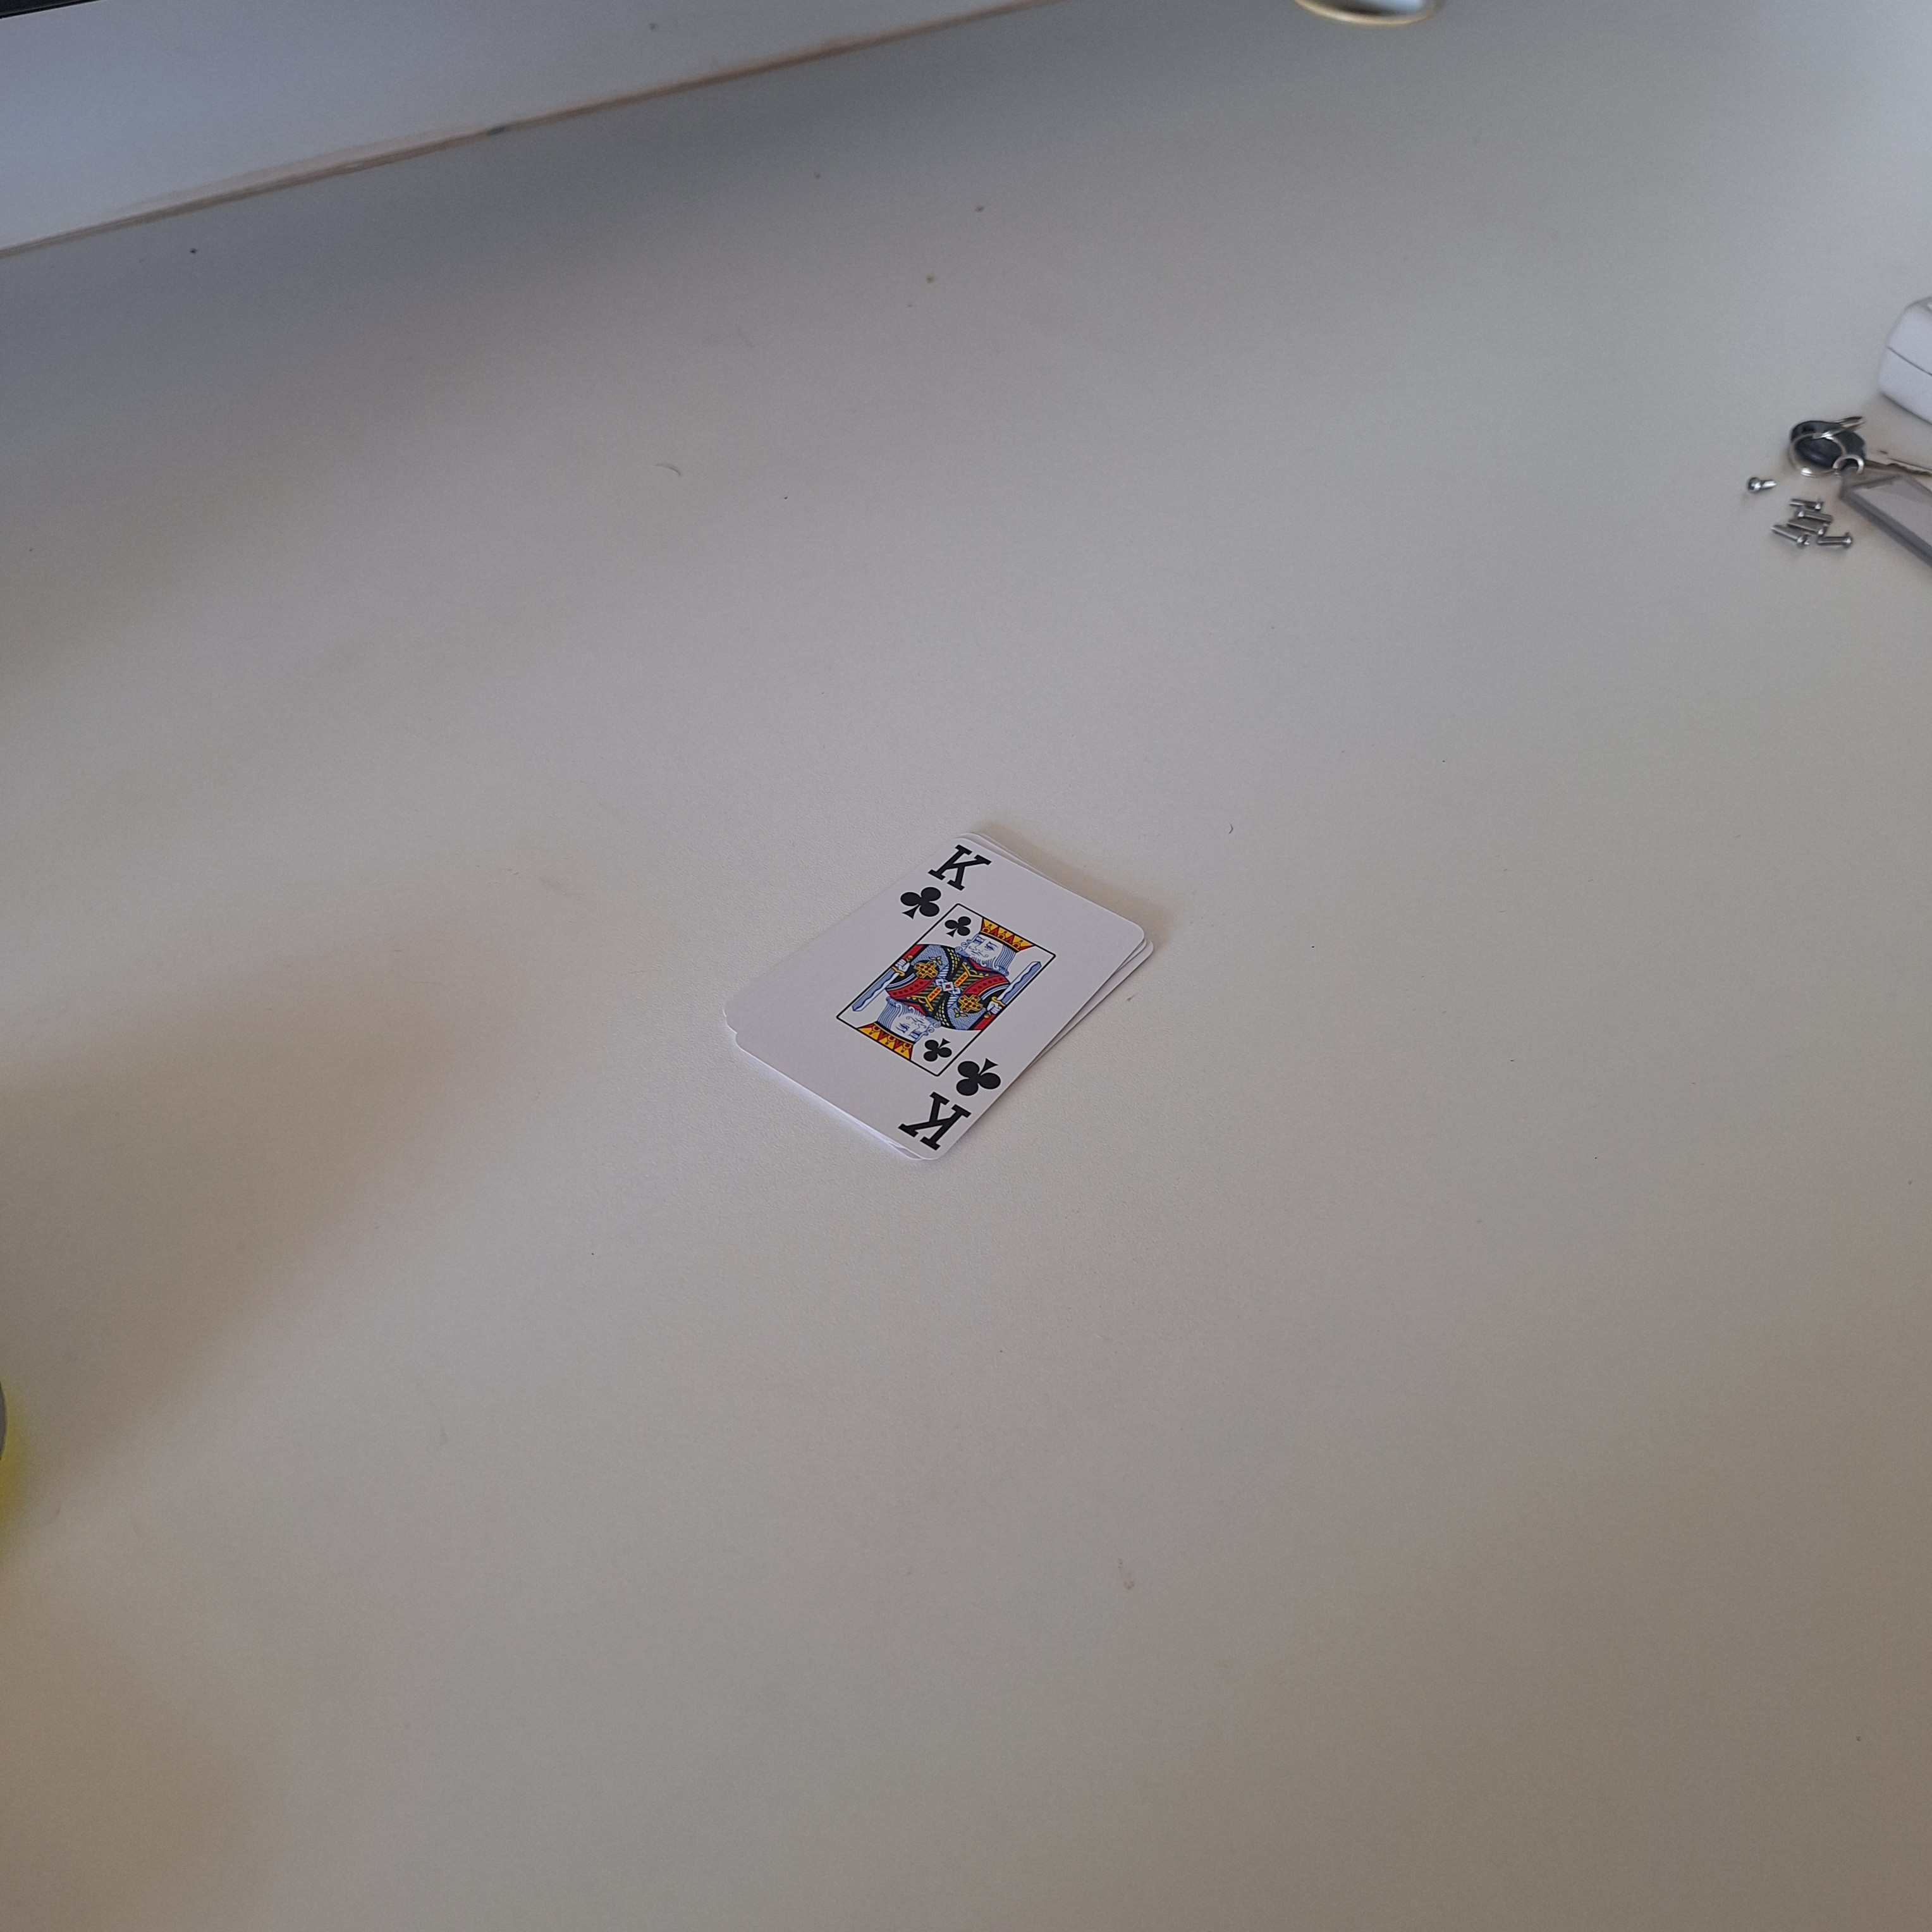KP: (892, 1056, 1017, 1154), (892, 832, 996, 922)
